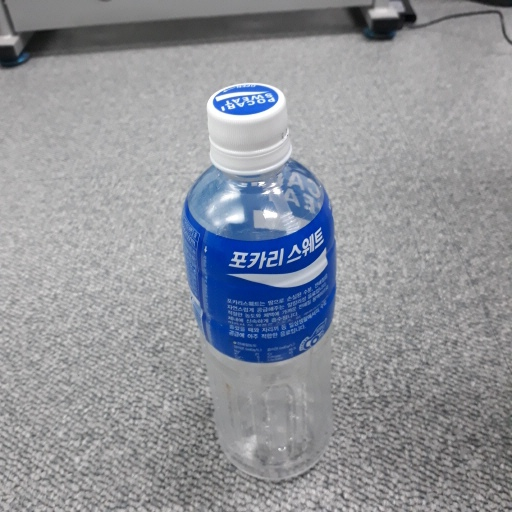Plastic_0: (179, 81, 339, 489)
